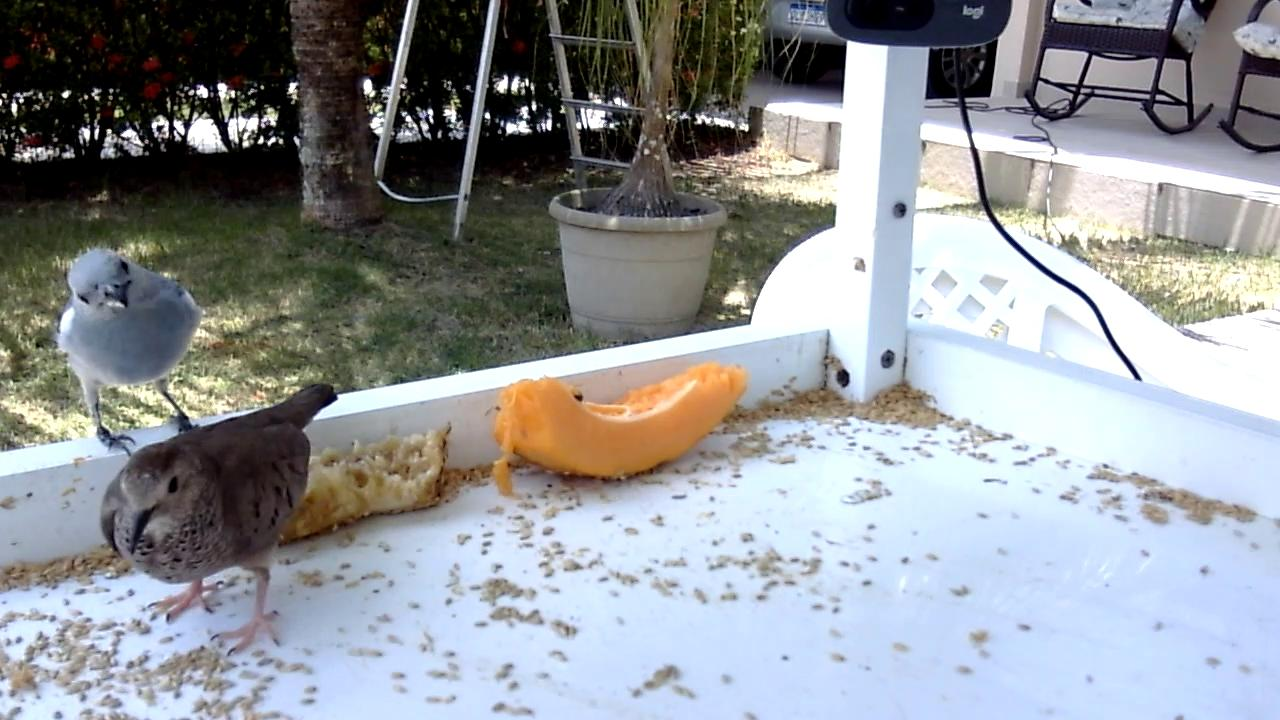rolinha: (100, 382, 339, 658)
sanhaco_da_amazonia: (56, 250, 201, 457)
